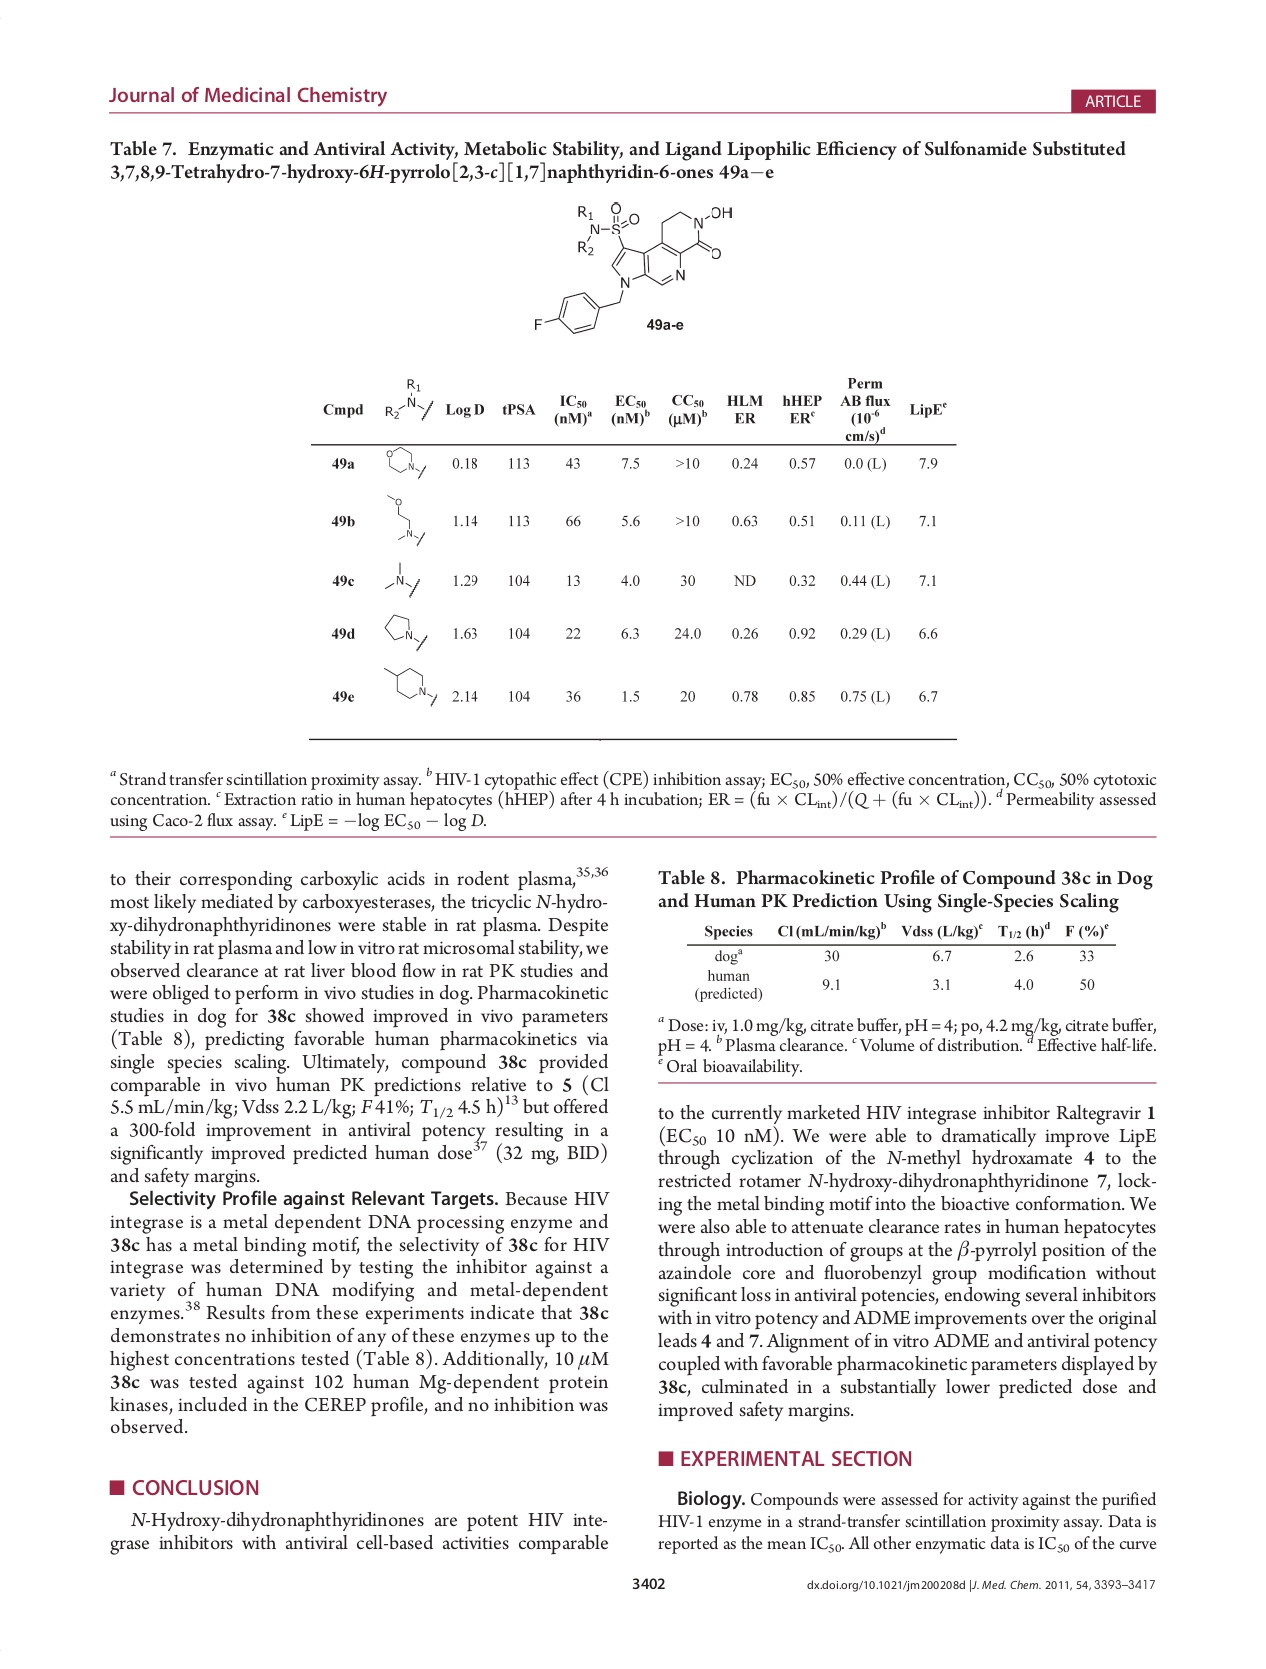exist_molecular: (528, 199, 733, 338), (376, 658, 442, 707), (386, 491, 426, 548), (380, 610, 431, 653), (382, 560, 422, 598), (386, 447, 428, 481)
